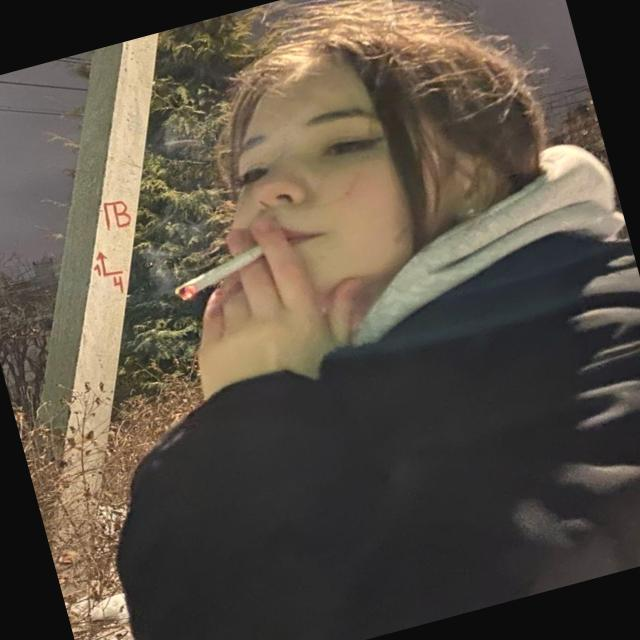smoke: (135, 212, 311, 336)
